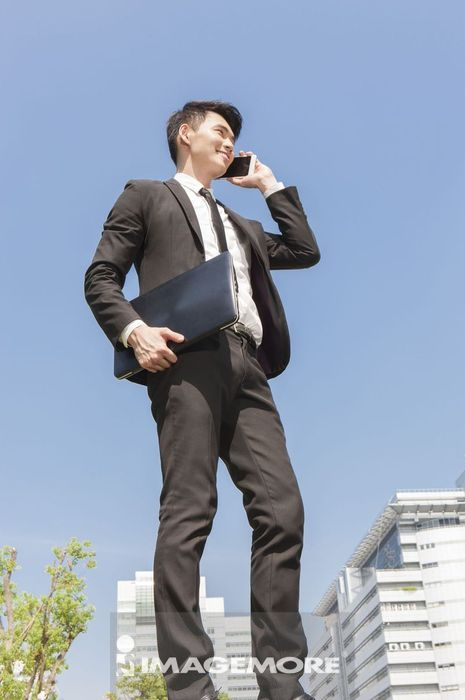phone: (227, 154, 258, 178)
talk: (207, 122, 274, 188)
